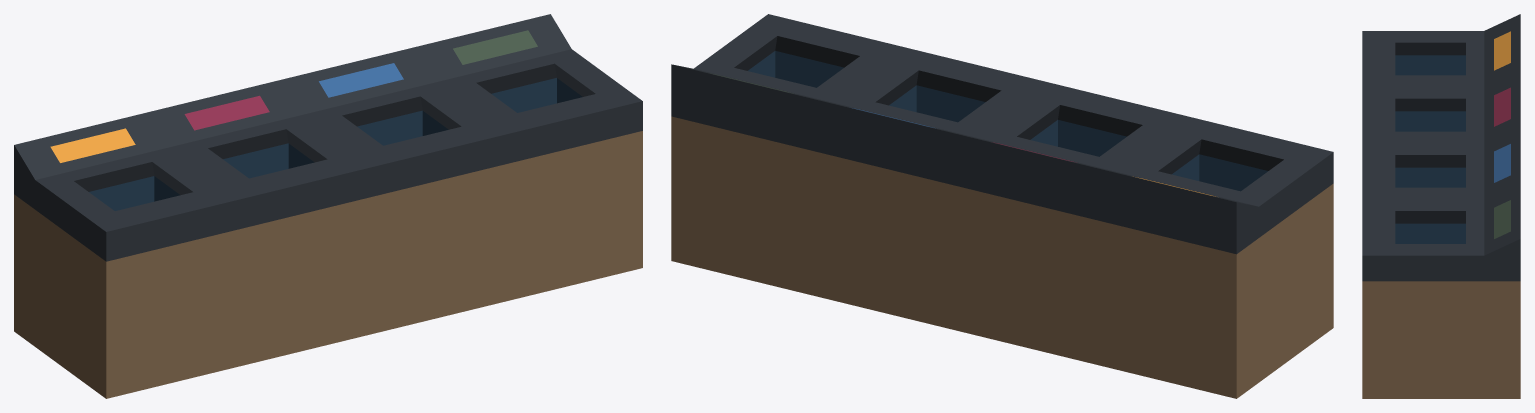
The model's file is wastebasket.fbx.
3 renders of one model, left to right at view 1: azimuth 30°, elevation 25°; view 2: azimuth 150°, elevation 25°; view 3: azimuth 270°, elevation 25°, orthographic. The views are drawn at different scales.
Parts seen in each view (by area): view 1: wastebasket; view 2: wastebasket; view 3: wastebasket.
Boxes of the visible parts, box(x1,y1,x2,y2) form: wastebasket: box(14, 14, 642, 398); wastebasket: box(671, 14, 1333, 398); wastebasket: box(1362, 14, 1520, 398).
Bounding box in the file's own units: 1034 × 344 × 308.
